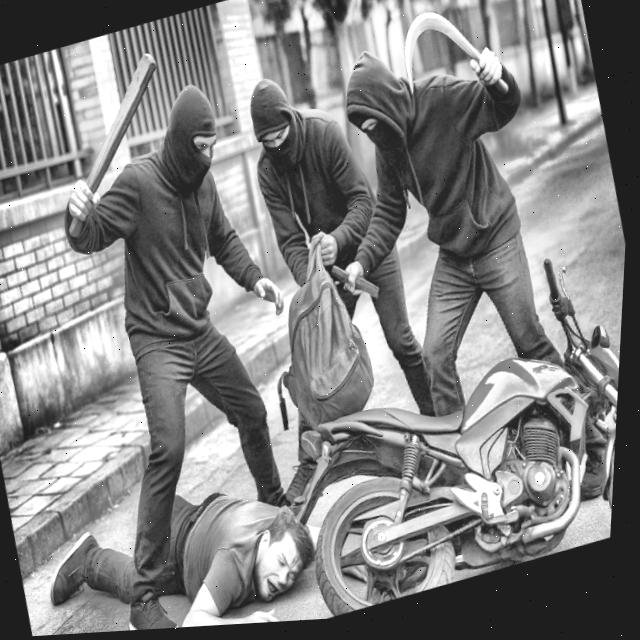celurit: (392, 0, 539, 113)
robbery: (36, 38, 620, 631)
tongkat pemukul: (14, 33, 198, 258)
